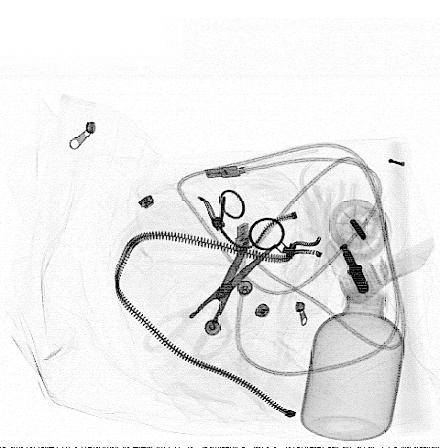Scissors: (151, 230, 281, 361)
